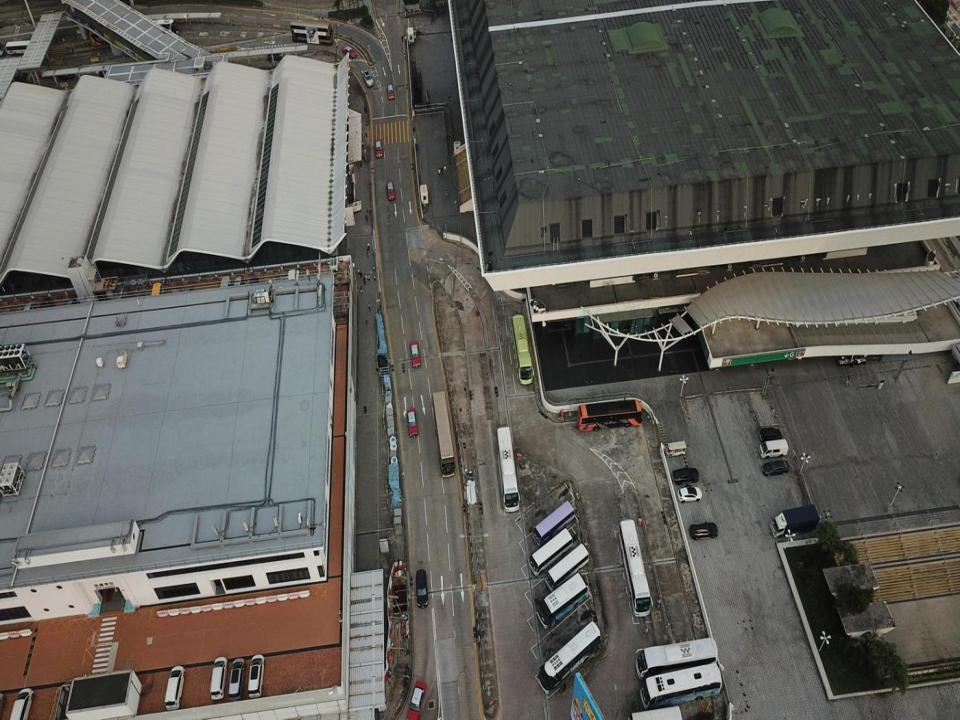bus: (538, 620, 600, 694), (640, 661, 722, 710), (636, 637, 718, 680), (619, 518, 652, 617), (537, 571, 588, 629), (528, 527, 573, 577), (544, 543, 589, 592), (496, 426, 520, 512), (432, 390, 455, 478), (578, 399, 642, 430), (532, 500, 574, 546), (511, 313, 534, 385), (89, 16, 128, 46), (290, 19, 333, 45), (130, 19, 179, 38), (626, 705, 682, 719), (5, 39, 33, 55)
car: (405, 680, 427, 719), (672, 467, 699, 485), (761, 460, 789, 477), (677, 486, 702, 503), (406, 408, 418, 438), (410, 341, 421, 367), (386, 180, 396, 200), (362, 69, 373, 87), (342, 45, 356, 58), (375, 139, 383, 158), (388, 84, 394, 101)
truck: (770, 504, 820, 538)
van: (165, 665, 185, 710), (247, 653, 265, 698), (228, 658, 246, 703), (8, 688, 34, 719), (210, 657, 228, 700), (758, 438, 788, 458), (689, 522, 717, 541), (415, 568, 428, 608), (758, 427, 782, 443), (267, 50, 284, 62), (58, 70, 76, 80)
